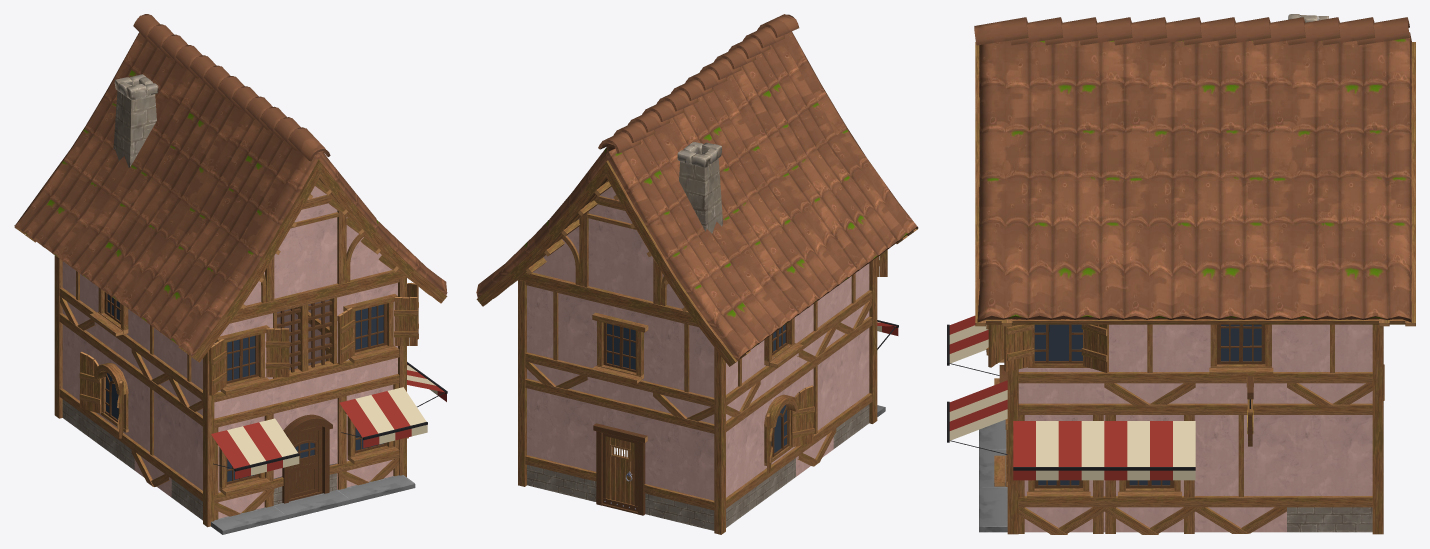
The model's file is corner_shop.glb.
The picture shows the model from 3 angles, left to right: view 1: azimuth 30°, elevation 25°; view 2: azimuth 150°, elevation 25°; view 3: azimuth 270°, elevation 25°; orthographic projection. The views are drawn at different scales.
Parts seen in each view (by area): view 1: Roof_RoundTiles_6x8.056, Roof_Front_Brick6.057, Wall_Plaster_WoodGrid+upper.032, Wall_Plaster_Straight.017, Wall_Plaster_Straight_Base.018, Wall_Plaster_Window_Wide_Flat2.006, Prop_Chimney.059, Wall_Plaster_Straight_Base.013, Wall_Plaster_Window_Wide_Flat2.001, Window_Wide_Flat1.034, Window_Wide_Flat1.030, Wall_Plaster_Door_Round.003 (+27 smaller); view 2: Roof_RoundTiles_6x8.056, Roof_Front_Brick6.058, Wall_Plaster_Straight_Base.008, Wall_Plaster_Straight_Base.012, Wall_Plaster_Straight+upper.036, Wall_Plaster_Straight+upper.039, Wall_Plaster_Straight_Base.018, Wall_Plaster_Window_Wide_Flat+upper.037, Wall_Plaster_Straight_Base.013, Wall_Plaster_Door_Flat.009, Wall_Plaster_Straight.017, Prop_Chimney.059 (+16 smaller); view 3: Roof_RoundTiles_6x8.056, Wall_Plaster_Straight.023, Wall_Plaster_Straight_Base.024, Wall_Plaster_Straight+upper.048, Wall_Plaster_Straight+upper.051, Awning.070, Wall_Plaster_Window_Wide_Flat2.021, Awning.071, Wall_Plaster_Window_Wide_Flat2.019, Wall_Plaster_Window_Wide_Flat+upper.049, Window_Wide_Flat1.050, Wall_Plaster_Window_Wide_Round+upper.045 (+16 smaller).
Part boxes in pixels (left/top/right/bottom): Roof_RoundTiles_6x8.056: left=14, top=14, right=447, bottom=362; Roof_Front_Brick6.057: left=232, top=181, right=406, bottom=319; Wall_Plaster_WoodGrid+upper.032: left=273, top=294, right=338, bottom=404; Wall_Plaster_Straight.017: left=131, top=366, right=171, bottom=497; Wall_Plaster_Straight_Base.018: left=168, top=393, right=202, bottom=520; Wall_Plaster_Window_Wide_Flat2.006: left=337, top=374, right=399, bottom=489; Prop_Chimney.059: left=113, top=74, right=158, bottom=167; Wall_Plaster_Straight_Base.013: left=59, top=313, right=97, bottom=442; Wall_Plaster_Window_Wide_Flat2.001: left=214, top=404, right=274, bottom=520; Window_Wide_Flat1.034: left=343, top=294, right=399, bottom=363; Window_Wide_Flat1.030: left=215, top=325, right=270, bottom=394; Wall_Plaster_Door_Round.003: left=273, top=389, right=338, bottom=505; Roof_RoundTiles_6x8.056: left=476, top=14, right=918, bottom=366; Roof_Front_Brick6.058: left=517, top=181, right=695, bottom=323; Wall_Plaster_Straight_Base.008: left=525, top=378, right=588, bottom=500; Wall_Plaster_Straight_Base.012: left=653, top=409, right=714, bottom=530; Wall_Plaster_Straight+upper.036: left=525, top=282, right=588, bottom=393; Wall_Plaster_Straight+upper.039: left=653, top=313, right=714, bottom=423; Wall_Plaster_Straight_Base.018: left=833, top=316, right=872, bottom=448; Wall_Plaster_Window_Wide_Flat+upper.037: left=587, top=297, right=654, bottom=409; Wall_Plaster_Straight_Base.013: left=726, top=398, right=760, bottom=527; Wall_Plaster_Door_Flat.009: left=587, top=393, right=654, bottom=516; Wall_Plaster_Straight.017: left=796, top=342, right=836, bottom=476; Prop_Chimney.059: left=677, top=142, right=722, bottom=233; Roof_RoundTiles_6x8.056: left=974, top=17, right=1415, bottom=326; Wall_Plaster_Straight.023: left=1195, top=403, right=1286, bottom=533; Wall_Plaster_Straight_Base.024: left=1287, top=403, right=1372, bottom=532; Wall_Plaster_Straight+upper.048: left=1104, top=324, right=1195, bottom=405; Wall_Plaster_Straight+upper.051: left=1287, top=324, right=1372, bottom=405; Awning.070: left=1013, top=421, right=1172, bottom=480; Wall_Plaster_Window_Wide_Flat2.021: left=1104, top=403, right=1195, bottom=534; Awning.071: left=1036, top=421, right=1195, bottom=480; Wall_Plaster_Window_Wide_Flat2.019: left=1018, top=403, right=1104, bottom=534; Wall_Plaster_Window_Wide_Flat+upper.049: left=1195, top=324, right=1286, bottom=403; Window_Wide_Flat1.050: left=1209, top=324, right=1273, bottom=376; Wall_Plaster_Window_Wide_Round+upper.045: left=1018, top=367, right=1104, bottom=403.
Size of the model in its own units: 8.57 by 11.03 by 10.28.
Materials: 11 (6 with a texture image).
